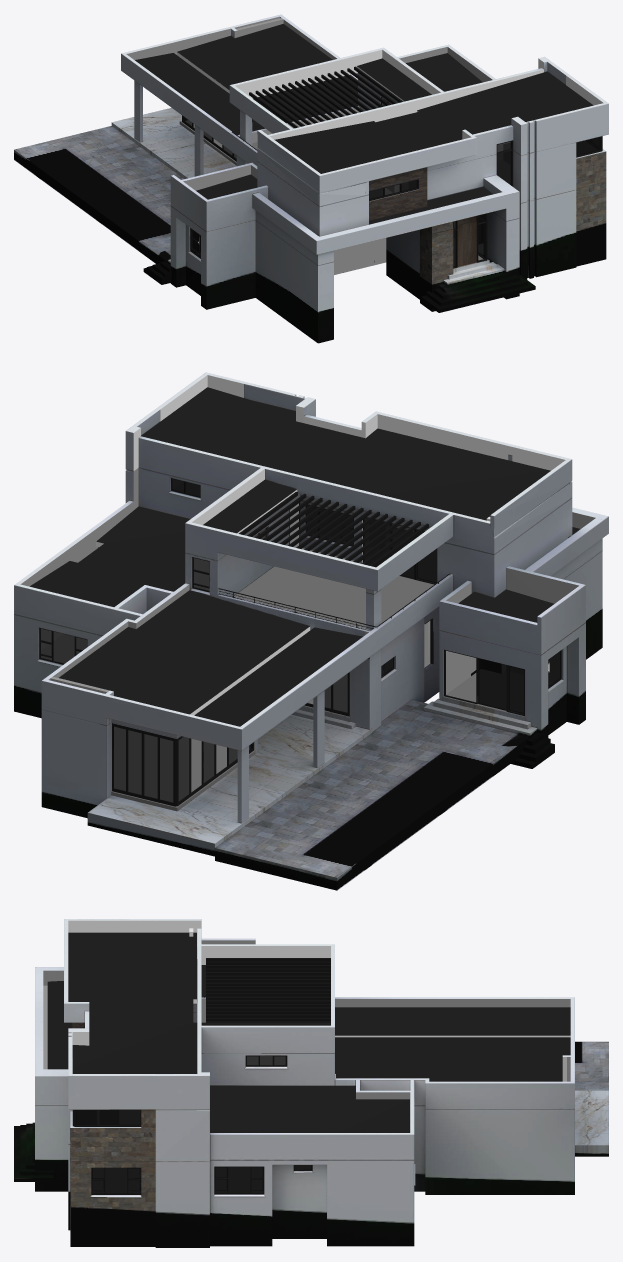
File: house opt 1.glb
3 renders of one model, top to bottom at view 1: azimuth 30°, elevation 25°; view 2: azimuth 150°, elevation 25°; view 3: azimuth 270°, elevation 25°, orthographic. The views are drawn at different scales.
Visible parts, largest first — view 1: bake texture.001, bake walls.002, bake main roof, bake main roof.001, bake walls.001, bake walls.004, bake walls.003, main Plaster_Int.008, bake main.001, main Plaster_Int.007, bake walls.005, bake texture.002 (+7 smaller); view 2: bake texture.001, bake walls.002, bake main roof, bake main roof.001, bake walls.004, bake walls.001, bake main glass.002, bake walls.003, main Ceramic int.001, main Ceramic.004, bake main.001, main Plaster_Int.008 (+6 smaller); view 3: bake walls.001, bake main roof, bake walls.002, bake main roof.001, bake walls.004, bake texture.001, bake main.001, main Plaster_Int.007, main Plaster_Int.008, bake texture.002, bake main glass.002, bake main glass (+2 smaller).
Boxes of the visible parts, box(x1,y1,x2,y2) form: bake texture.001: box(14, 107, 606, 312); bake walls.002: box(121, 14, 608, 254); bake main roof: box(135, 24, 492, 235); bake main roof.001: box(274, 58, 593, 173); bake walls.001: box(140, 85, 576, 309); bake walls.004: box(229, 47, 608, 206); bake walls.003: box(134, 80, 488, 343); main Plaster_Int.008: box(235, 49, 603, 193); bake main.001: box(249, 66, 512, 153); main Plaster_Int.007: box(126, 16, 510, 192); bake walls.005: box(255, 107, 496, 265); bake texture.002: box(369, 151, 606, 233); bake texture.001: box(87, 696, 554, 890); bake walls.002: box(14, 468, 608, 750); bake main roof: box(30, 506, 580, 726); bake main roof.001: box(141, 387, 550, 533); bake walls.004: box(125, 372, 572, 594); bake walls.001: box(14, 614, 585, 823); bake main glass.002: box(40, 629, 560, 802); bake walls.003: box(37, 551, 602, 823); main Ceramic int.001: box(41, 634, 522, 811); main Ceramic.004: box(234, 526, 433, 628); bake main.001: box(237, 489, 428, 566); main Plaster_Int.008: box(133, 375, 565, 524); bake walls.001: box(35, 1105, 574, 1247); bake main roof: box(47, 965, 570, 1132); bake walls.002: box(35, 938, 574, 1161); bake main roof.001: box(68, 932, 330, 1073); bake walls.004: box(64, 919, 334, 1109); bake texture.001: box(14, 1041, 608, 1246); bake main.001: box(193, 958, 330, 1022); main Plaster_Int.007: box(43, 940, 570, 1117); main Plaster_Int.008: box(68, 920, 330, 1045); bake texture.002: box(70, 1022, 155, 1161); bake main glass.002: box(92, 1165, 310, 1193); bake main glass: box(76, 1056, 285, 1125).
Size of the model in its own units: 22.19 by 9.1 by 28.52.
10 materials, 5 textured.
